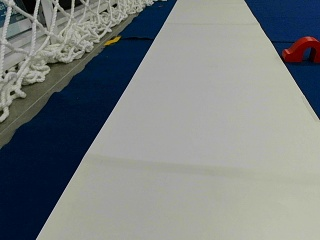bridge: (283, 36, 319, 61)
